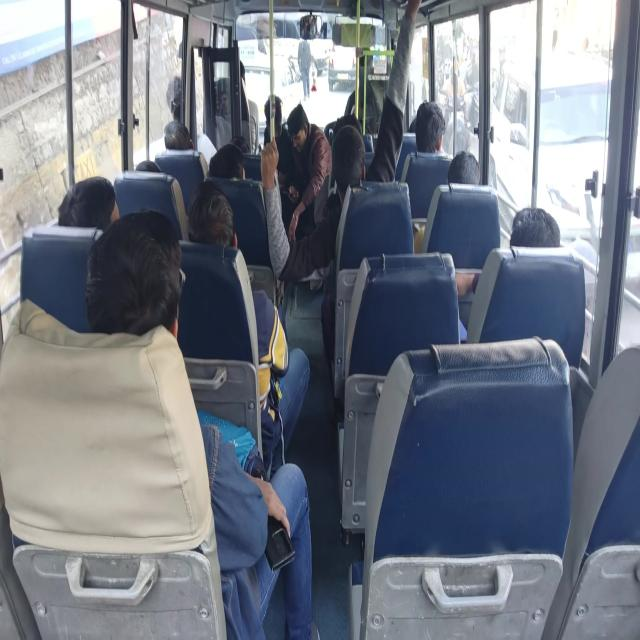person: (85, 209, 317, 638), (260, 0, 421, 283), (187, 180, 310, 477), (260, 124, 366, 282), (455, 206, 561, 341), (414, 150, 481, 253), (285, 103, 332, 242), (57, 176, 119, 230), (263, 94, 296, 190), (344, 53, 383, 134), (164, 120, 216, 168), (510, 206, 560, 248), (413, 100, 446, 154), (208, 143, 245, 180), (447, 150, 480, 185), (298, 34, 312, 100), (164, 120, 192, 149)
